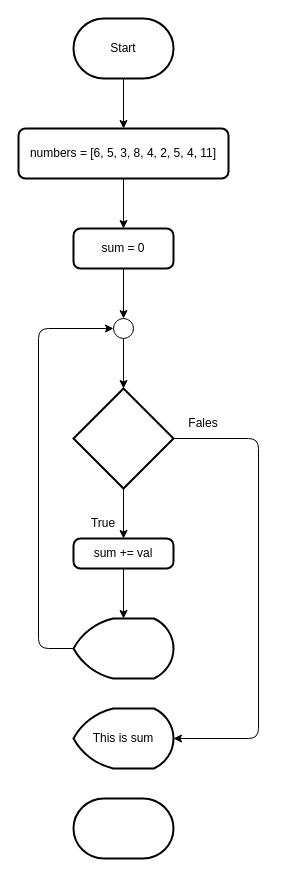
Image size: 284x876. Some labels were removed from this diagram. Each missing label, with the box of its shape:
End: (72, 797, 174, 859)
sum: (72, 617, 174, 679)
val in numbers: (72, 387, 174, 489)
